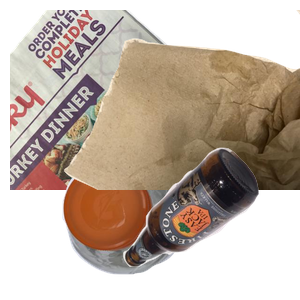glass: (120, 145, 300, 300)
paper: (10, 10, 247, 190)
plastic: (60, 152, 237, 300)
trash: (60, 10, 300, 190)
